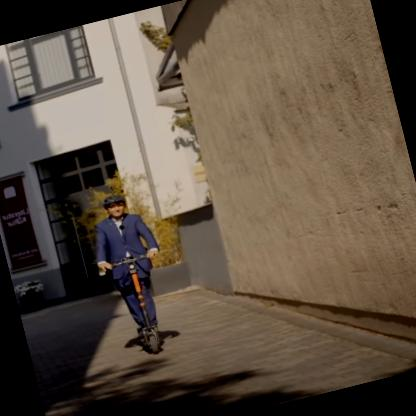helmet: (104, 193, 129, 223)
human: (90, 196, 161, 326)
kickboard: (132, 332, 173, 353)
